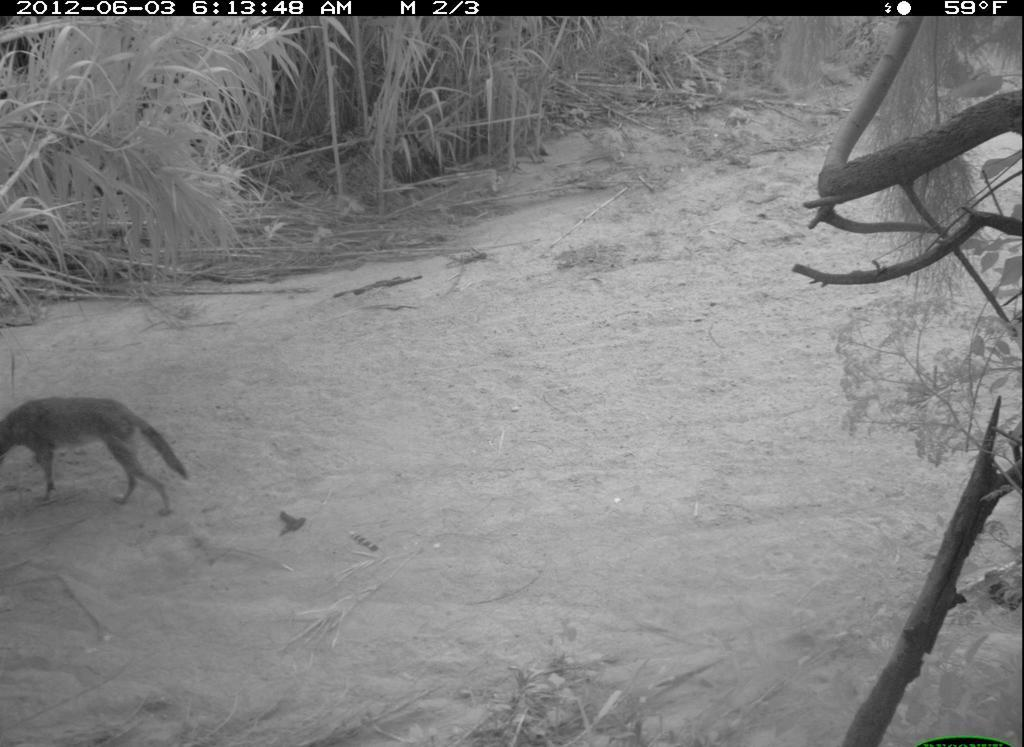coyote: (2, 391, 200, 528)
